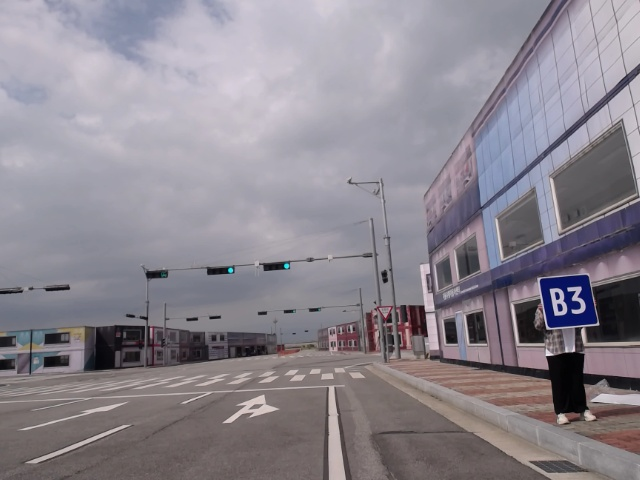delivery_b3: (538, 273, 601, 329)
straight_green_4: (204, 264, 238, 278), (264, 262, 290, 271), (308, 306, 321, 313), (283, 308, 298, 314)
